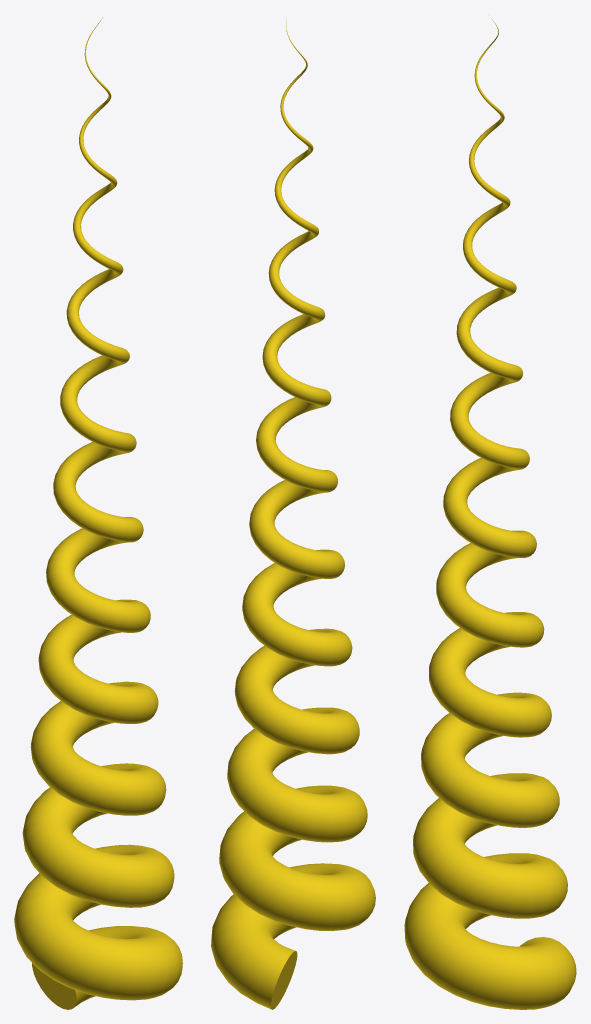
File: spiral.fbx
3 views of the same model, side by side, from view 1: azimuth 30°, elevation 25°; view 2: azimuth 150°, elevation 25°; view 3: azimuth 270°, elevation 25° (orthographic). The views are drawn at different scales.
Parts seen in each view (by area): view 1: Spiral; view 2: Spiral; view 3: Spiral.
Part boxes in pixels (x1=…): Spiral: x1=14, y1=18, x2=182, y2=1009; Spiral: x1=211, y1=18, x2=375, y2=1009; Spiral: x1=404, y1=18, x2=576, y2=1009.
Size of the model in its own units: 179 by 1174 by 184.
